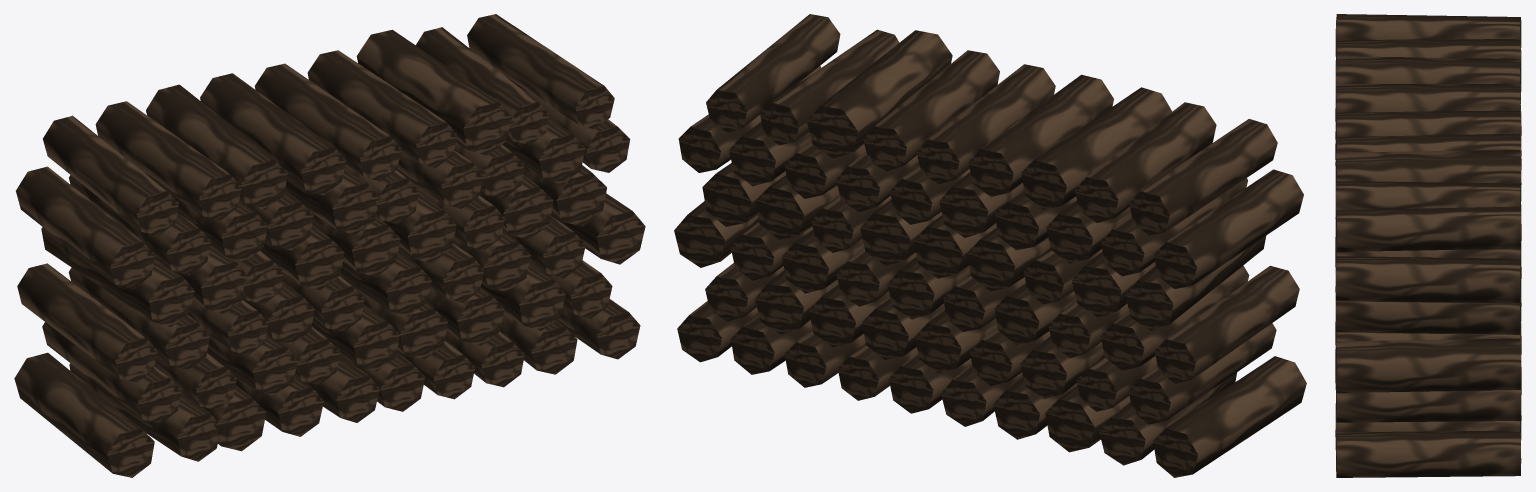
Rendered from woodpile.glb.
3 views of the same model, side by side, from view 1: azimuth 30°, elevation 25°; view 2: azimuth 150°, elevation 25°; view 3: azimuth 270°, elevation 25° (orthographic). The views are drawn at different scales.
Visible parts, largest first — view 1: woodpile; view 2: woodpile; view 3: woodpile.
Boxes of the visible parts, x1=… form: woodpile: x1=14, y1=14, x2=645, y2=477; woodpile: x1=674, y1=14, x2=1306, y2=477; woodpile: x1=1335, y1=14, x2=1521, y2=477.
Size of the model in its own units: 1.36 by 0.6922 by 0.4458.
1 material, 1 textured.
